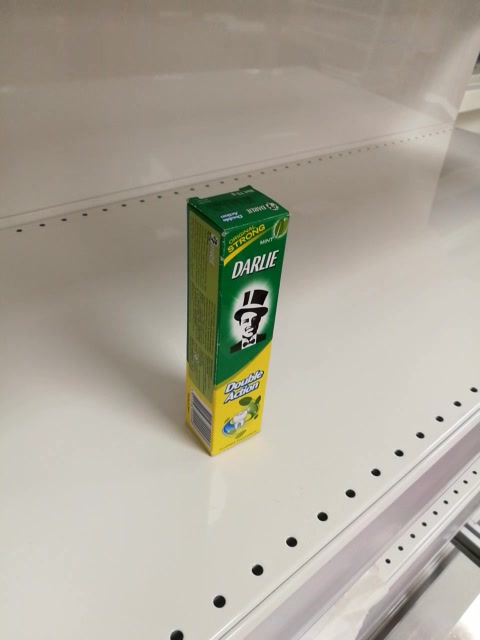toothpaste: (183, 184, 291, 459)
